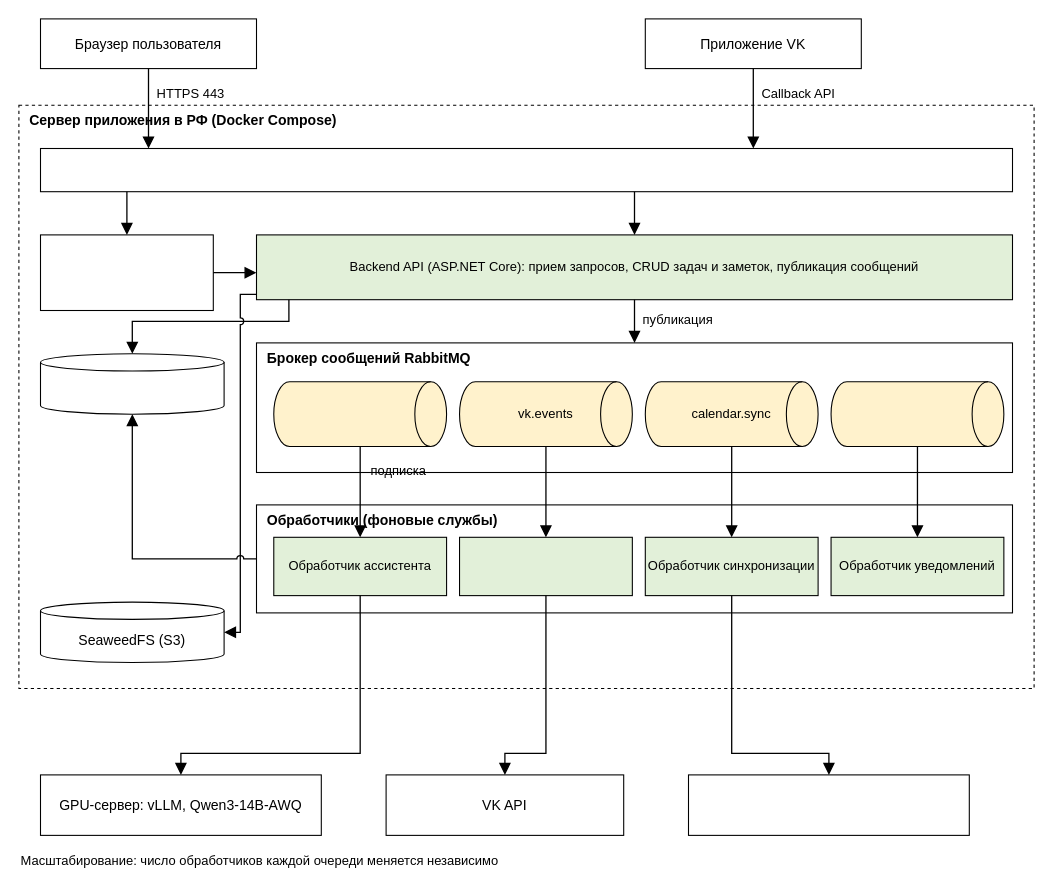
Some shapes in this 1053 by 891 pixel diagram are drawn without their labels. Each missing label, with the centre of its shape:
"assistant.requests" goes at point (360, 414).
"Frontend Next.js" goes at point (126, 272).
"Google Calendar API" goes at point (828, 804).
"Nginx: обратный прокси, TLS" goes at point (526, 169).
"notifications" goes at point (917, 414).
"PostgreSQL 16" goes at point (131, 383).
"Обработчик VK-бота" goes at point (545, 566).
